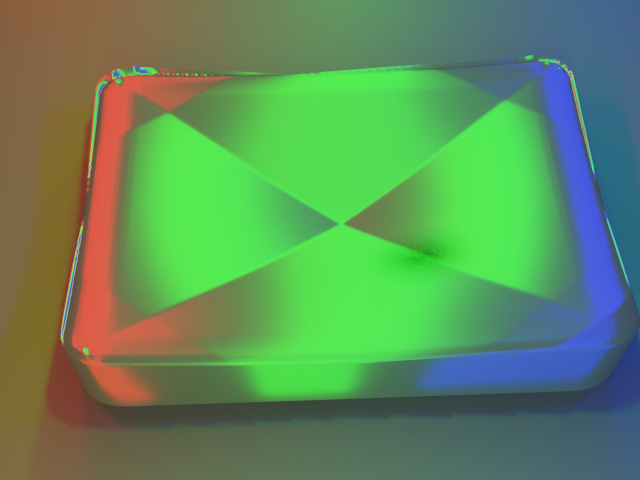smash: (0, 0, 639, 479)
stain: (321, 206, 534, 312)
